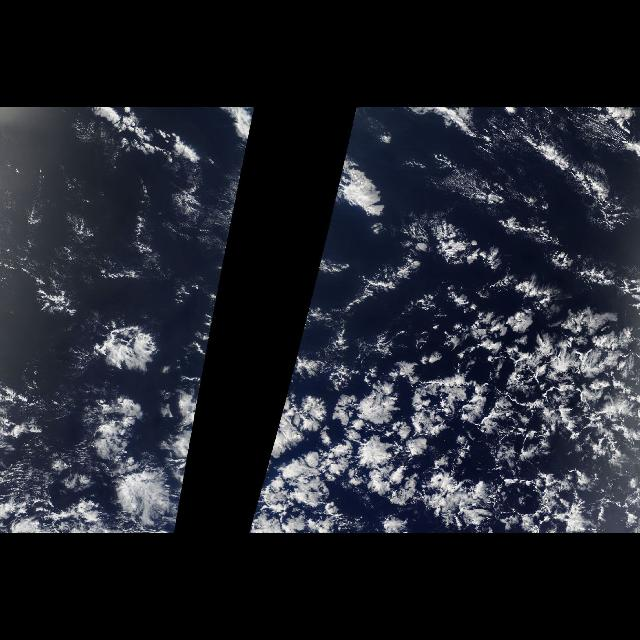Flower: (249, 364, 443, 530), (94, 364, 204, 530)
